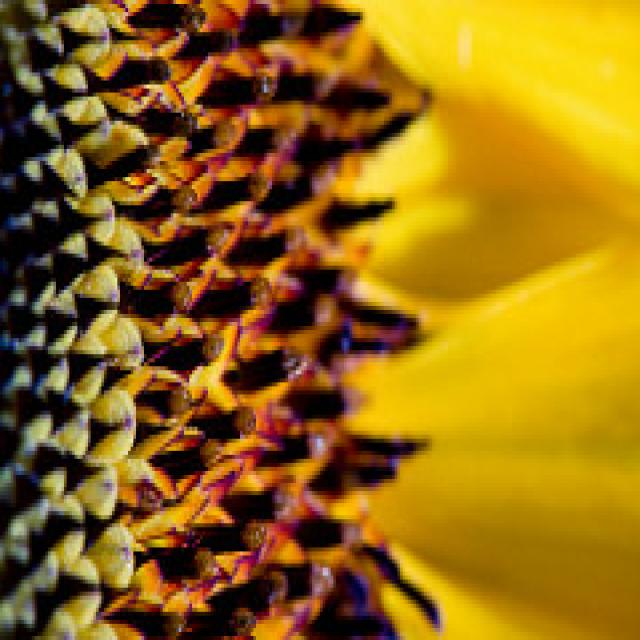sunflower: (4, 12, 639, 640)
